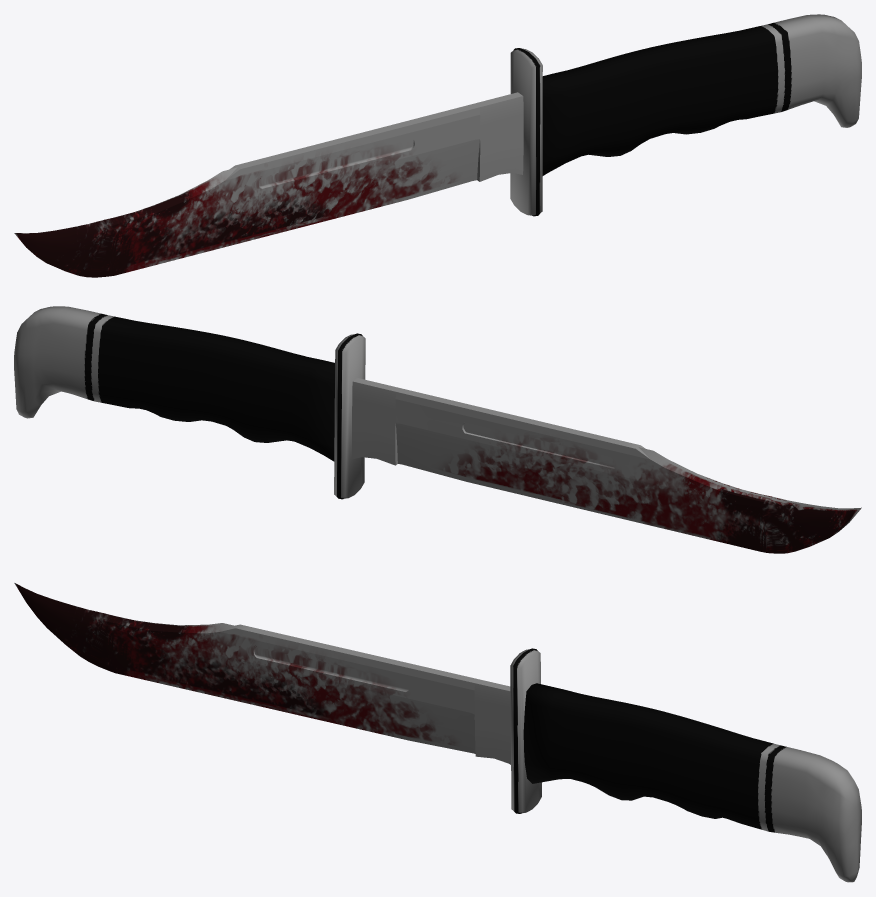
File: puñal ghostface.fbx
3 renders of one model, top to bottom at view 1: azimuth 30°, elevation 25°; view 2: azimuth 150°, elevation 25°; view 3: azimuth 330°, elevation 25°, orthographic. The views are drawn at different scales.
Parts seen in each view (by area): view 1: cuchillo.002; view 2: cuchillo.002; view 3: cuchillo.002.
Boxes of the visible parts, x1=… form: cuchillo.002: x1=14, y1=14, x2=861, y2=277; cuchillo.002: x1=14, y1=306, x2=861, y2=553; cuchillo.002: x1=14, y1=583, x2=861, y2=882.
Size of the model in its own units: 29.17 by 5.3 by 1.55.
